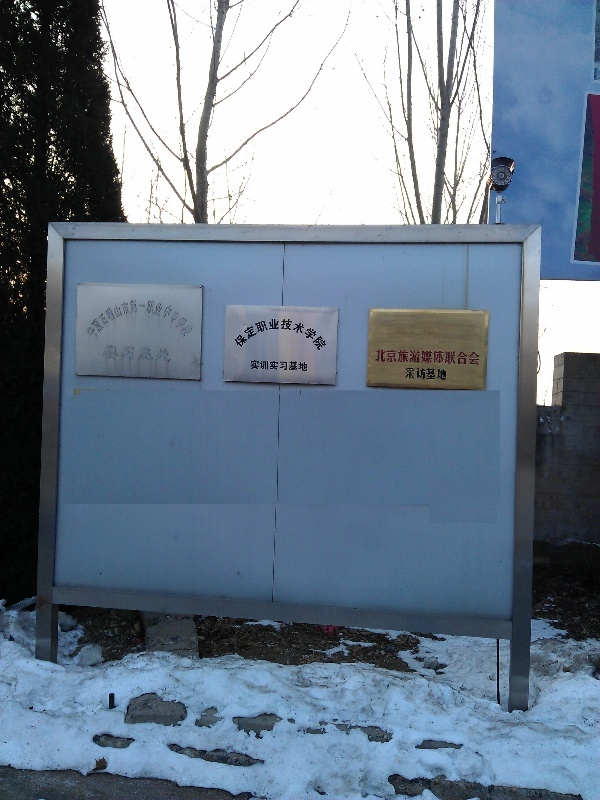text: (97, 299, 112, 338), (113, 299, 128, 338), (129, 299, 144, 338), (145, 299, 160, 338), (161, 299, 176, 338), (177, 299, 192, 338), (241, 317, 256, 351), (257, 317, 272, 351), (273, 317, 288, 351), (289, 317, 304, 351), (305, 317, 320, 351), (87, 299, 96, 338), (113, 344, 128, 364), (129, 344, 144, 364), (145, 344, 160, 364), (385, 349, 400, 366), (401, 349, 416, 366), (417, 349, 432, 366), (433, 349, 448, 366), (449, 349, 464, 366), (465, 349, 480, 366), (321, 317, 328, 351), (417, 367, 432, 381), (433, 367, 448, 381), (161, 344, 171, 364), (257, 360, 272, 372), (273, 360, 288, 372), (289, 360, 304, 372), (103, 344, 112, 364), (405, 367, 416, 381), (375, 349, 384, 366), (236, 317, 240, 351), (193, 299, 195, 338), (250, 360, 256, 372), (305, 360, 309, 372)
